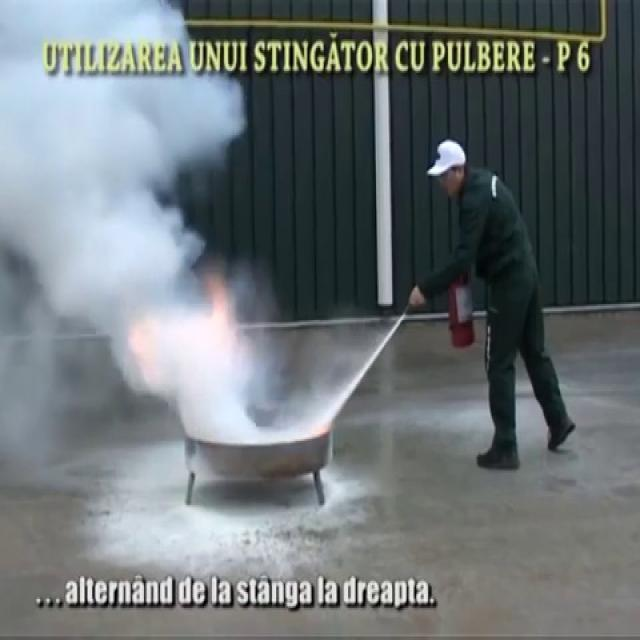Smoke: (0, 0, 283, 452)
